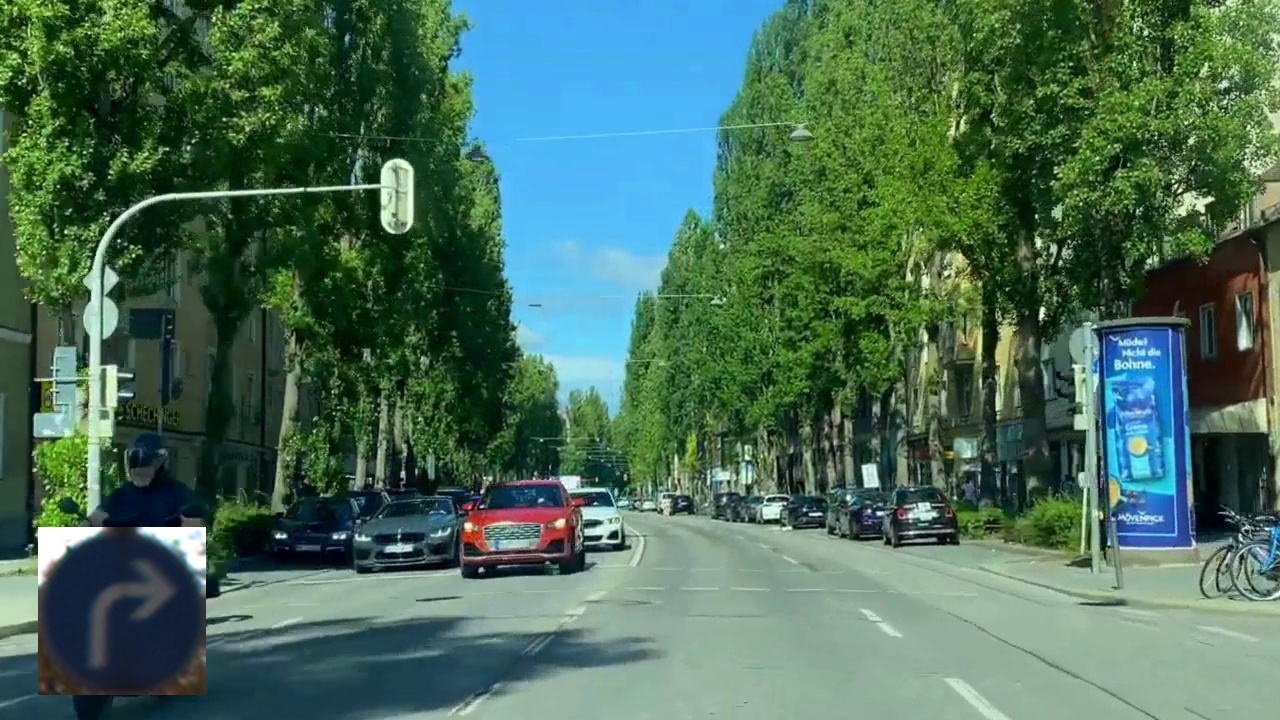Turn right: (38, 527, 206, 695)
